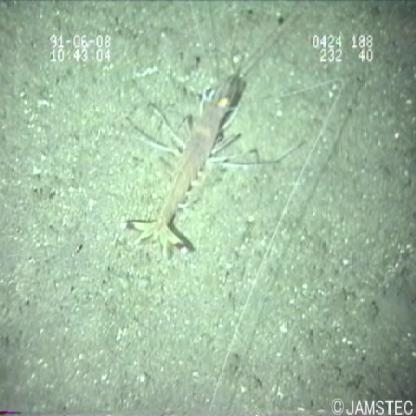Bio: (119, 7, 354, 258)
